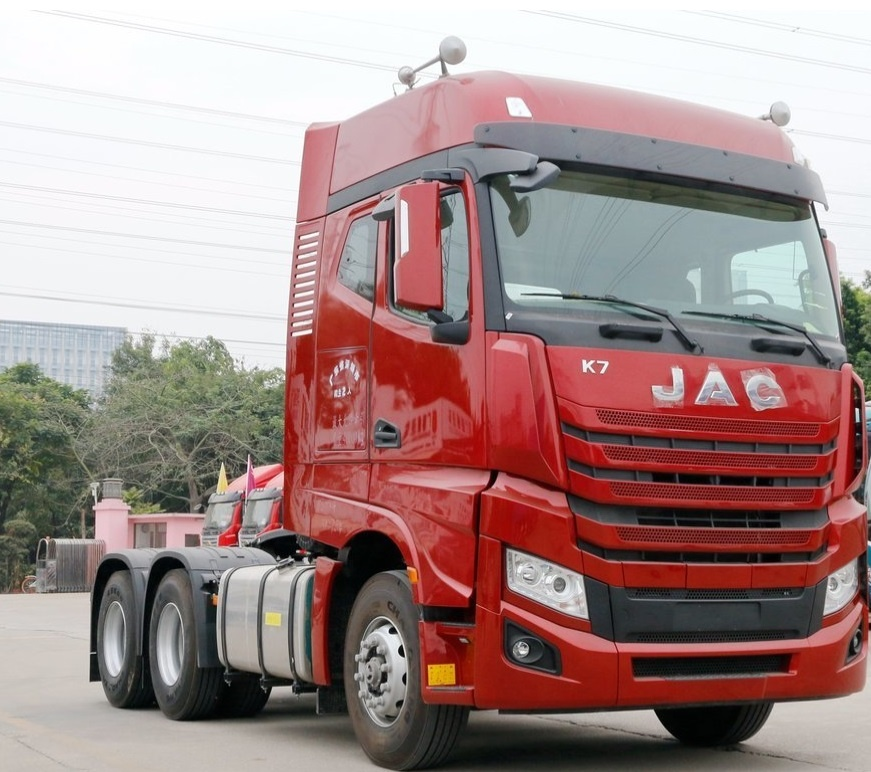heavy truck: (92, 84, 866, 759)
